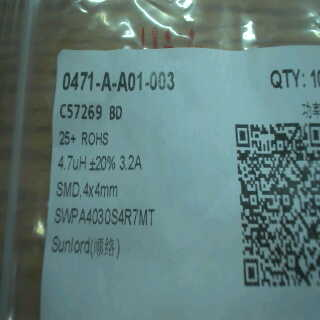4.7uH: (54, 151, 89, 174)
